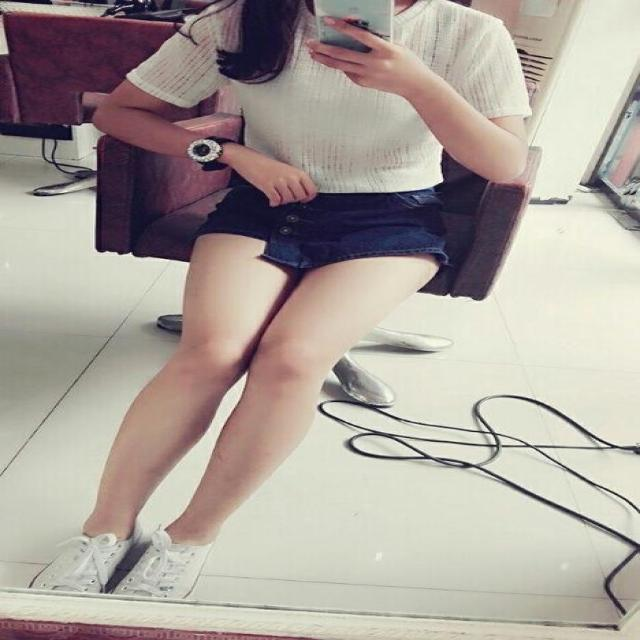short-sleeve-dress: (144, 0, 543, 283)
